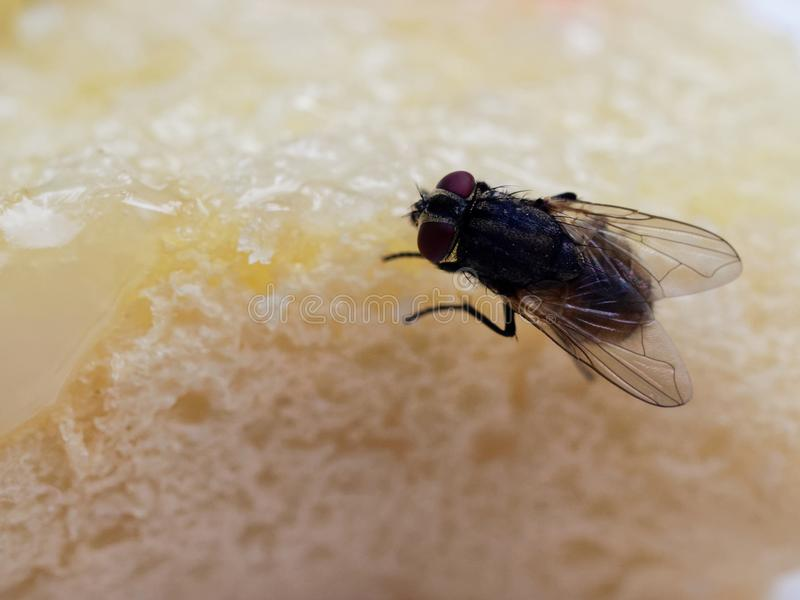house fly: (383, 169, 743, 432)
